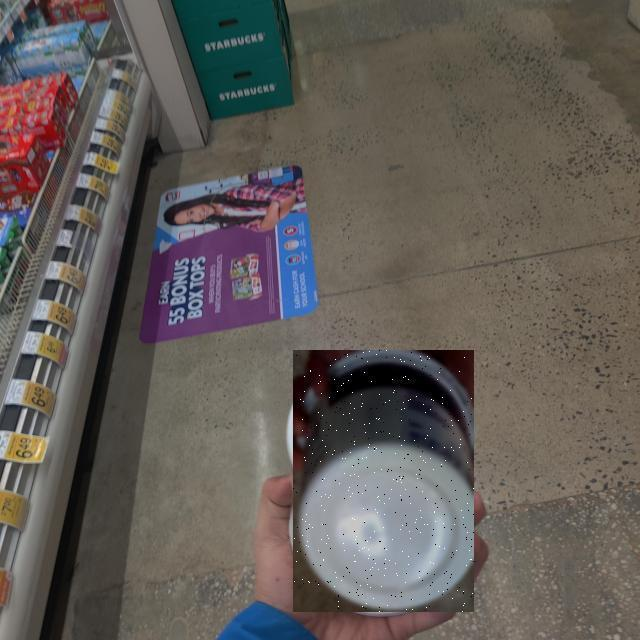Yoghurt: (293, 350, 474, 612)
